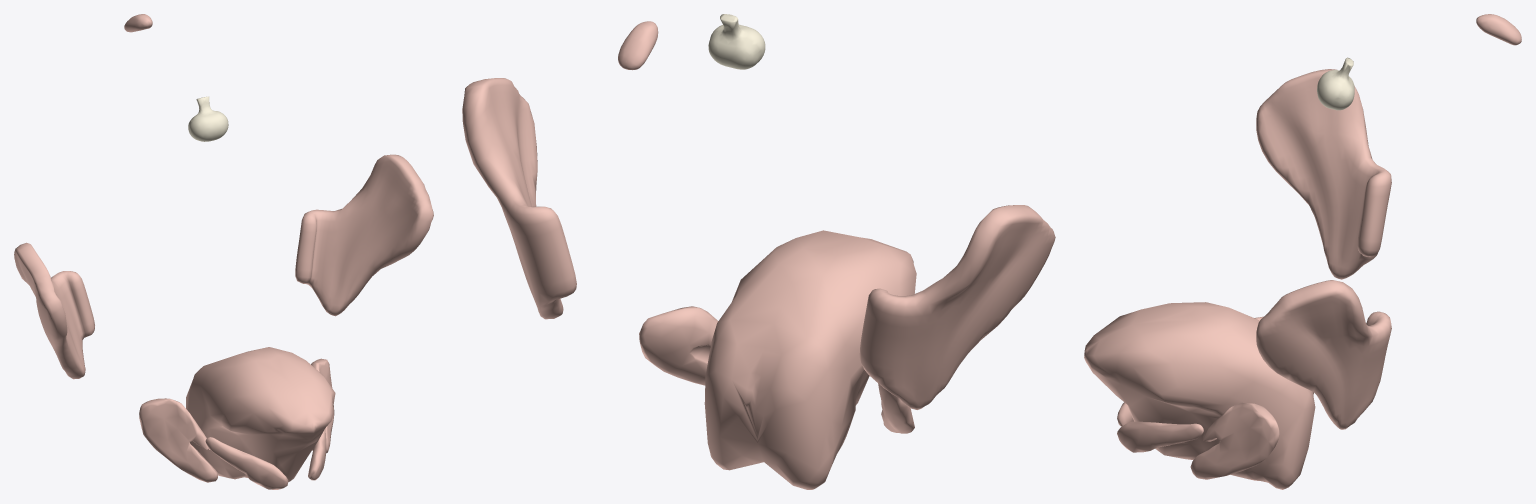
File: viscera.glb
3 views of the same model, side by side, from view 1: azimuth 30°, elevation 25°; view 2: azimuth 150°, elevation 25°; view 3: azimuth 270°, elevation 25° (orthographic). The views are drawn at different scales.
Visible parts, largest first — view 1: Tongue.001, Parotid gland.l.001, Parotid gland.r.001, Submandibular gland.r.001, Sublingual gland.r.001, Adenohypophysis.001, Sublingual gland.l.001, Submandibular gland.l.001; view 2: Tongue.001, Parotid gland.r.001, Parotid gland.l.001, Submandibular gland.l.001, Neurohypophysis.001, Pineal gland.001, Submandibular gland.r.001; view 3: Tongue.001, Parotid gland.r.001, Parotid gland.l.001, Submandibular gland.l.001, Sublingual gland.l.001, Adenohypophysis.001, Pineal gland.001, Neurohypophysis.001.
Boxes of the visible parts, x1,y1,x2,y2 form: Tongue.001: (186,347,335,481); Parotid gland.l.001: (295,154,433,316); Parotid gland.r.001: (14,242,94,379); Submandibular gland.r.001: (139,398,217,482); Sublingual gland.r.001: (205,437,288,489); Adenohypophysis.001: (189,96,228,141); Sublingual gland.l.001: (308,427,326,480); Submandibular gland.l.001: (311,358,334,452); Tongue.001: (704,230,916,489); Parotid gland.r.001: (859,205,1055,409); Parotid gland.l.001: (462,78,576,319); Submandibular gland.l.001: (639,306,718,385); Neurohypophysis.001: (708,16,761,69); Pineal gland.001: (618,21,658,70); Submandibular gland.r.001: (878,383,914,433); Tongue.001: (1084,302,1315,489); Parotid gland.r.001: (1256,69,1391,279); Parotid gland.l.001: (1256,280,1391,429); Submandibular gland.l.001: (1190,402,1279,479); Sublingual gland.l.001: (1117,421,1203,452); Adenohypophysis.001: (1317,57,1350,108); Pineal gland.001: (1476,14,1521,45); Neurohypophysis.001: (1332,58,1354,110).
Size of the model in its own units: 0.13 by 0.1228 by 0.1067.
